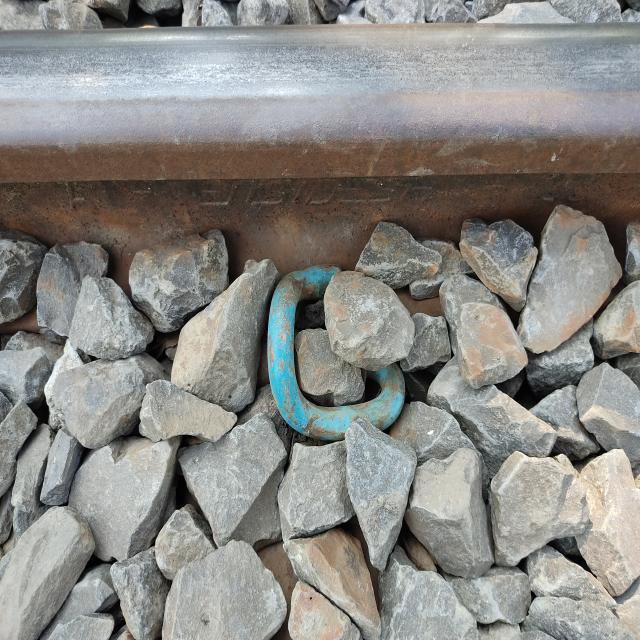non-defective: (171, 34, 466, 498)
